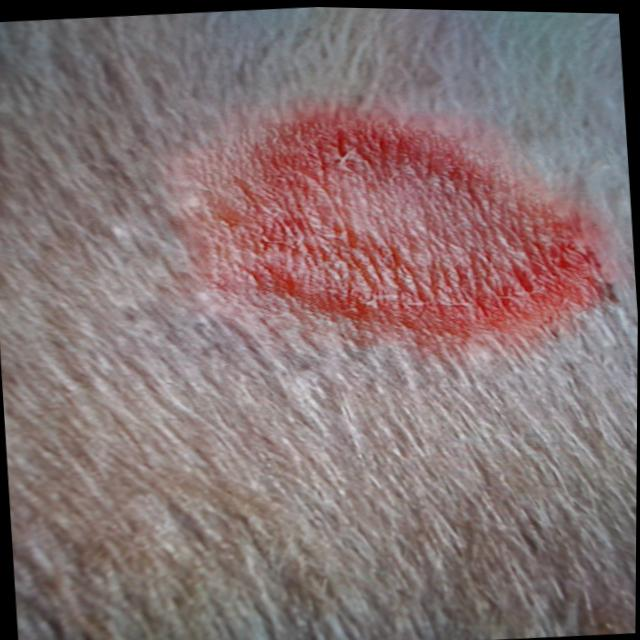ringworm: (180, 90, 628, 373)
